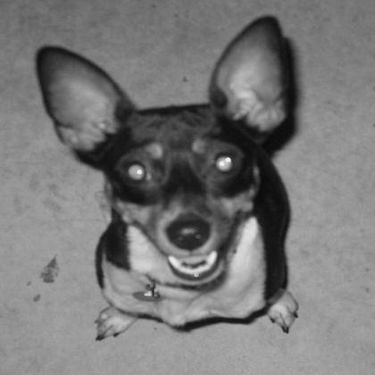dog: (25, 8, 308, 346)
